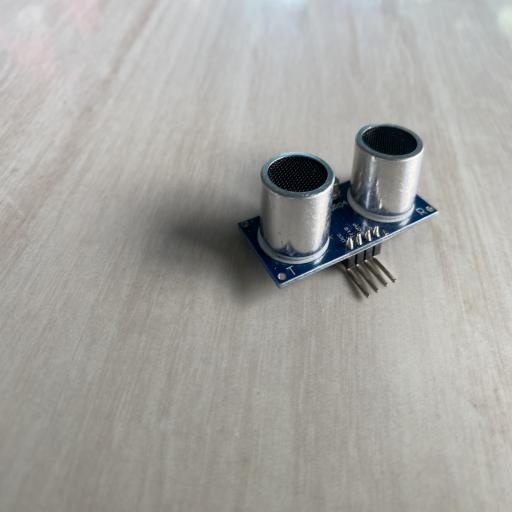Ultrasonic Sensor: (238, 122, 440, 299)
